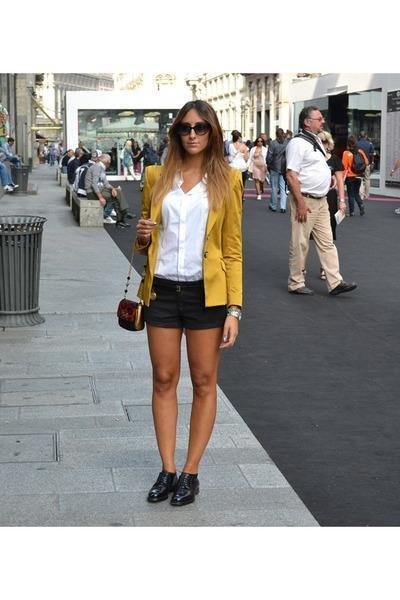bag: (117, 300, 142, 330)
jacket: (132, 160, 242, 301)
shirt: (156, 180, 208, 275)
shoe: (147, 468, 198, 506)
shorts: (140, 276, 228, 339)
